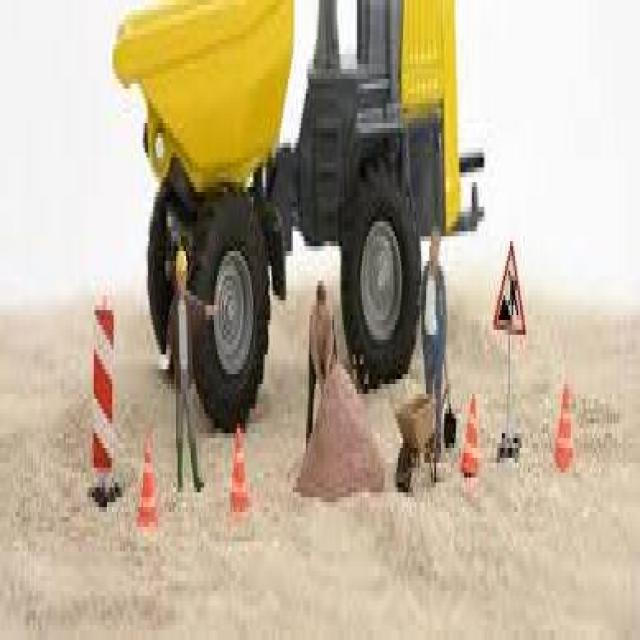Safety-Helmet: (170, 251, 191, 275)
